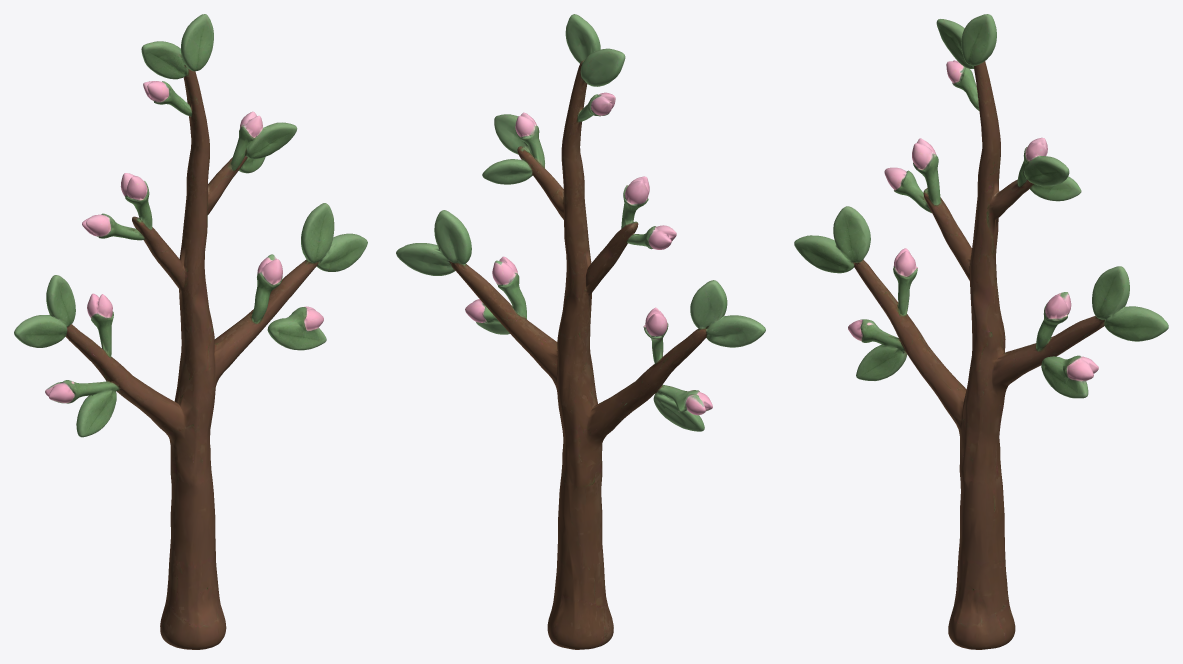
Rendered from sakura-2.glb.
3 renders of one model, left to right at view 1: azimuth 30°, elevation 25°; view 2: azimuth 150°, elevation 25°; view 3: azimuth 330°, elevation 25°, orthographic.
Size of the model in its own units: 1.16 by 1.9 by 0.1893.
1 material, 1 textured.
